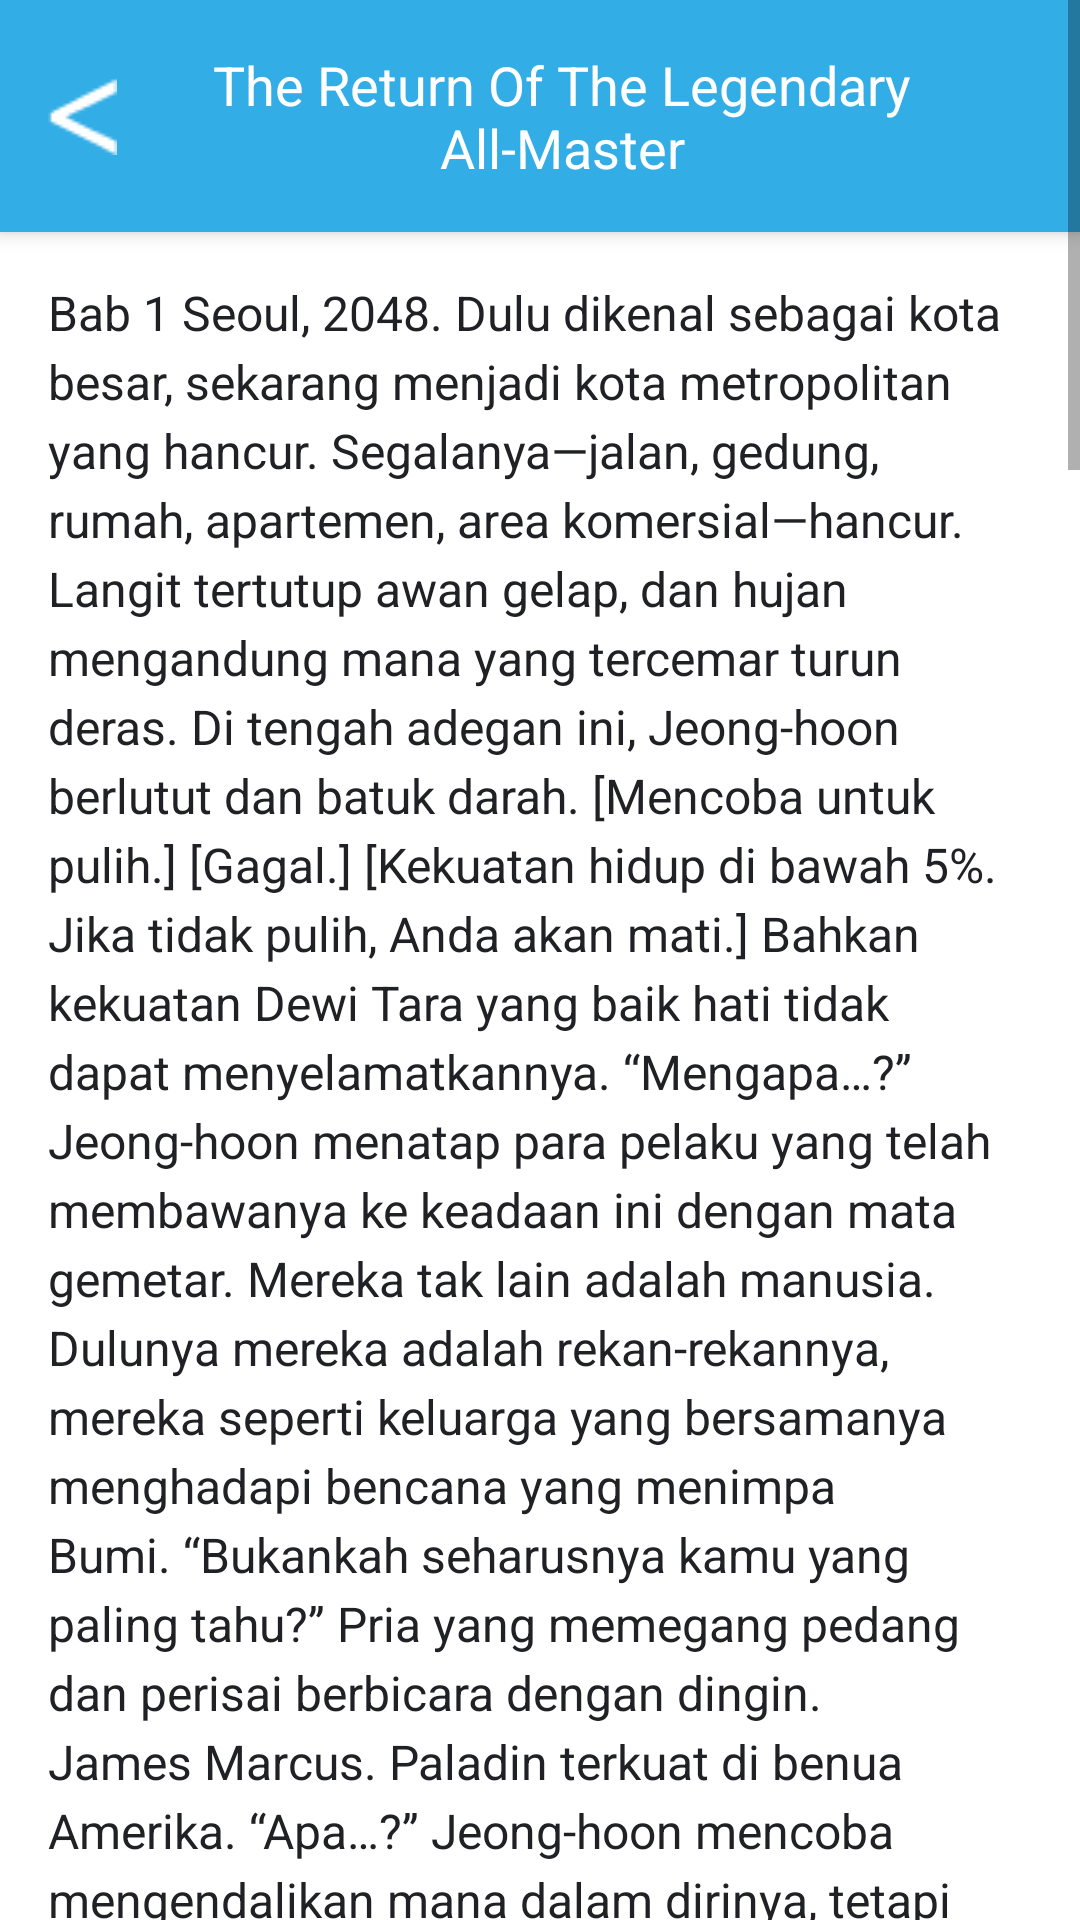

Where icons sit on this 1080px x 1920px app screen, as (x1, y1, x2, y2):
back: (48, 79, 117, 155)
